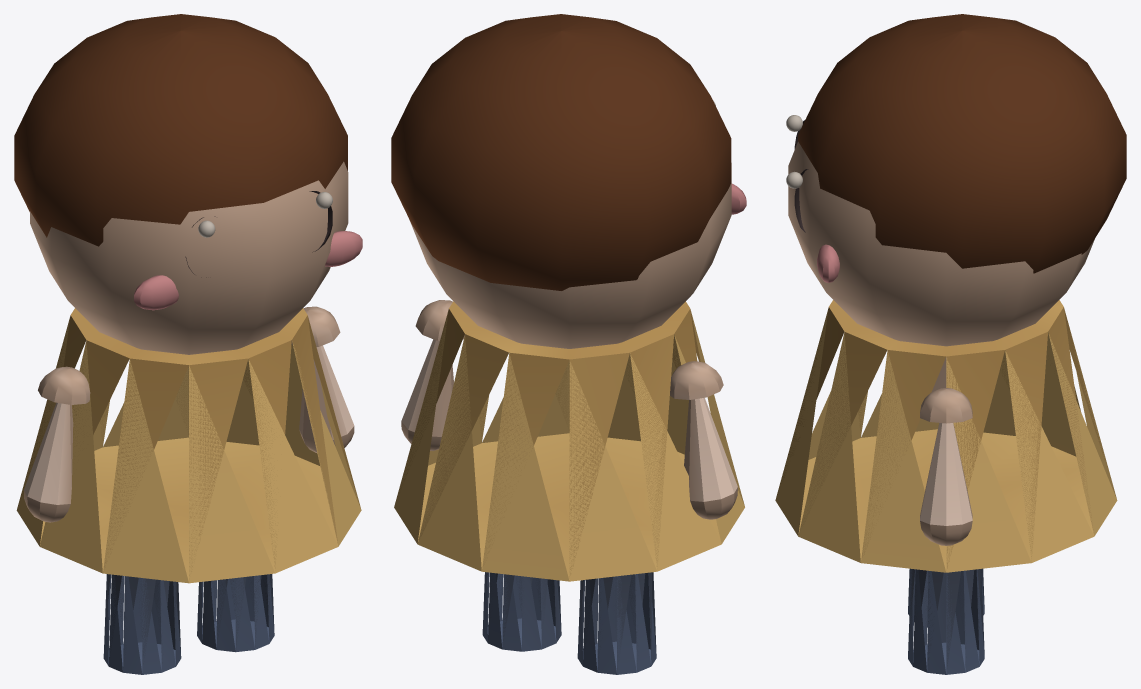
3 views of the same model, side by side, from view 1: azimuth 30°, elevation 25°; view 2: azimuth 150°, elevation 25°; view 3: azimuth 270°, elevation 25° (orthographic). The views are drawn at different scales.
Visible parts, largest first — view 1: pet_p69207944; view 2: pet_p69207944; view 3: pet_p69207944.
Part boxes in pixels (box(x1,y1,x2,y2)): pet_p69207944: box(14, 14, 362, 674); pet_p69207944: box(391, 14, 746, 674); pet_p69207944: box(775, 14, 1126, 674).
Size of the model in its own units: 0.3464 by 0.625 by 0.3287.
